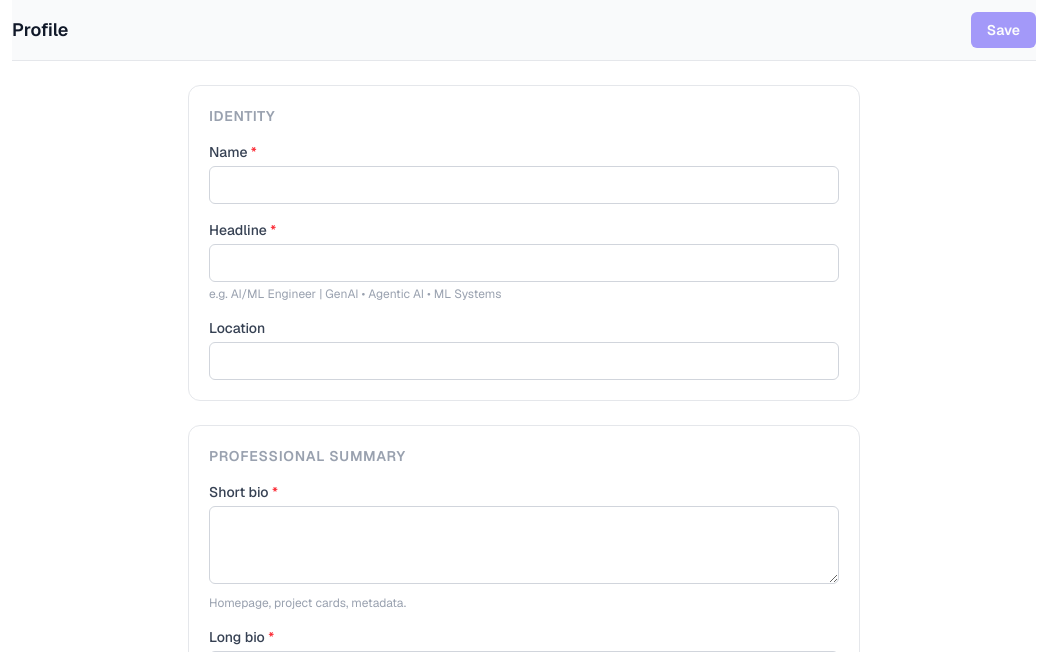
it: ProfileEditor › disables Save until required fields are present
Expected: the button "Save" is disabled, [971,12,1036,48]
In the field labelled "Name *": point(524, 185) [209,166,839,204], type "Nikhil"
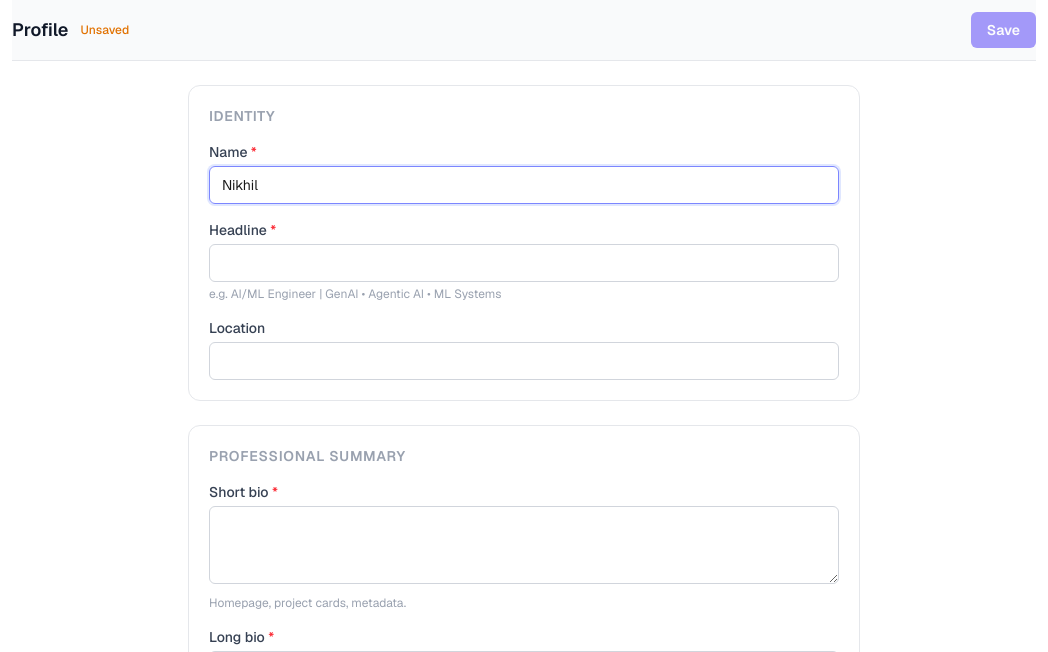
In the field labelled "Headline": point(524, 263) [209,244,839,282], type "AI/ML Engineer"
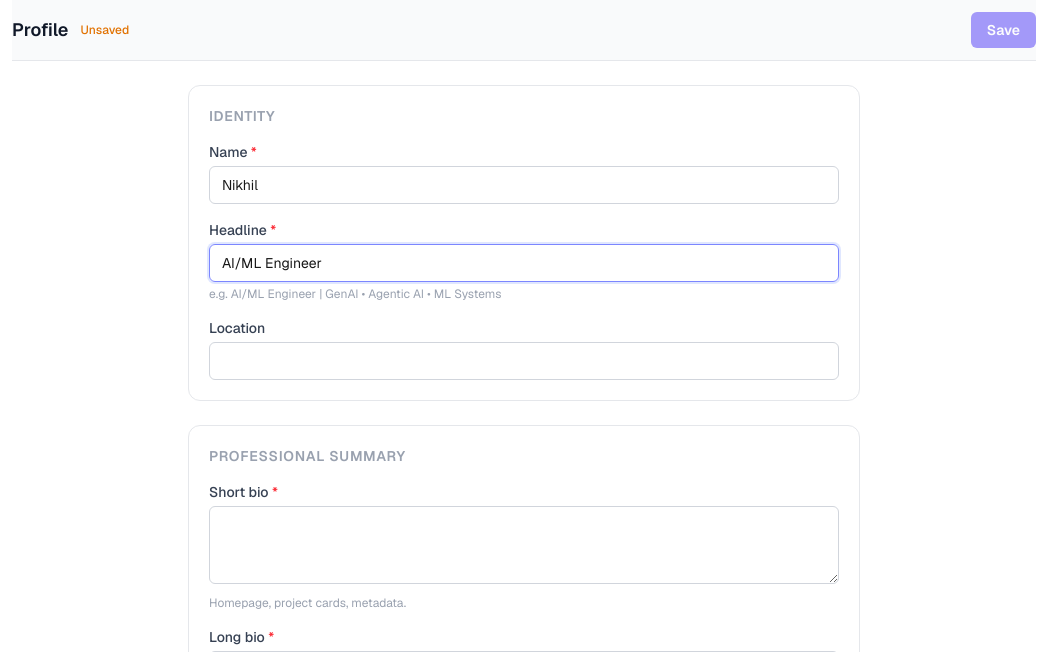
In the text box labelled "Short bio * Homepage, project cards, metadata.": point(524, 545) [209,506,839,584], type "short"
(page scrolled)
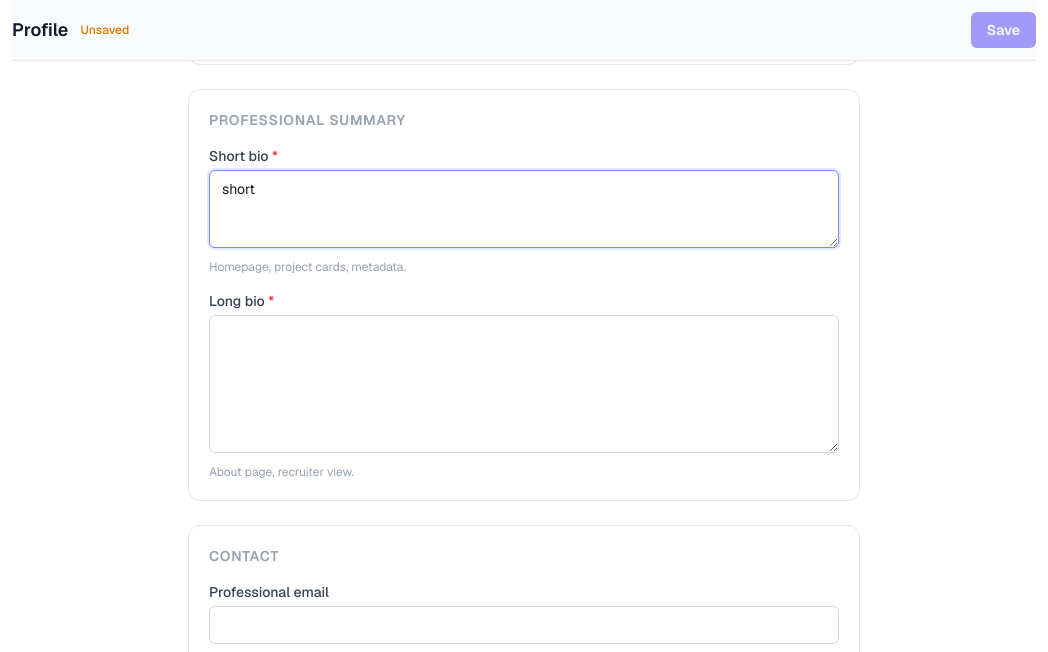
In the text box labelled "Long bio * About page, recruiter view.": point(524, 384) [209,315,839,453], type "long"
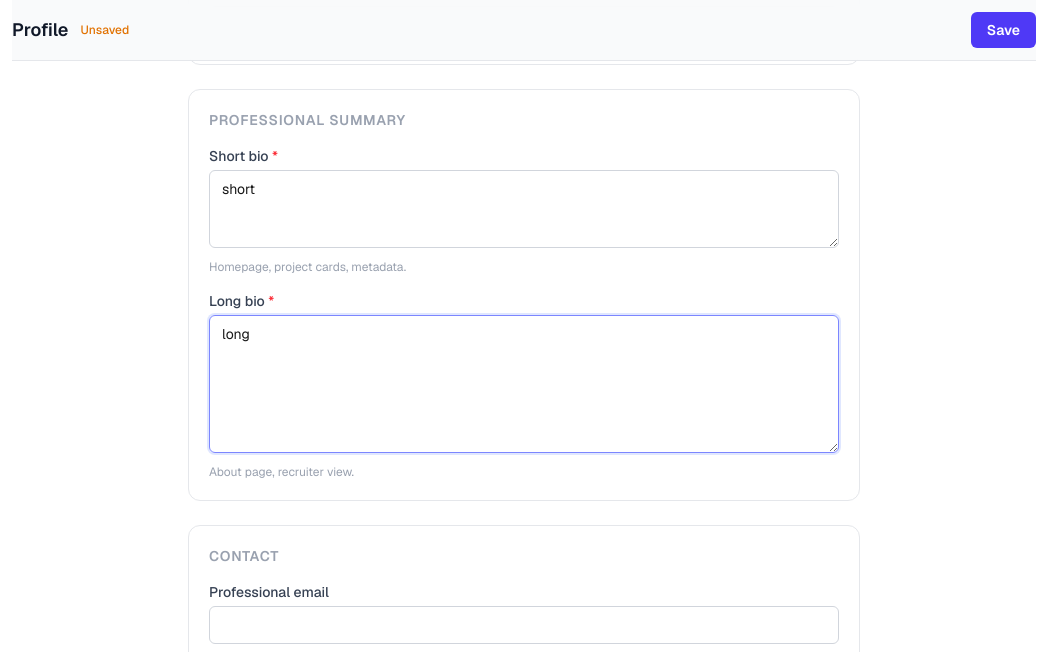
Result: the button "Save" is enabled at [971,12,1036,48]
